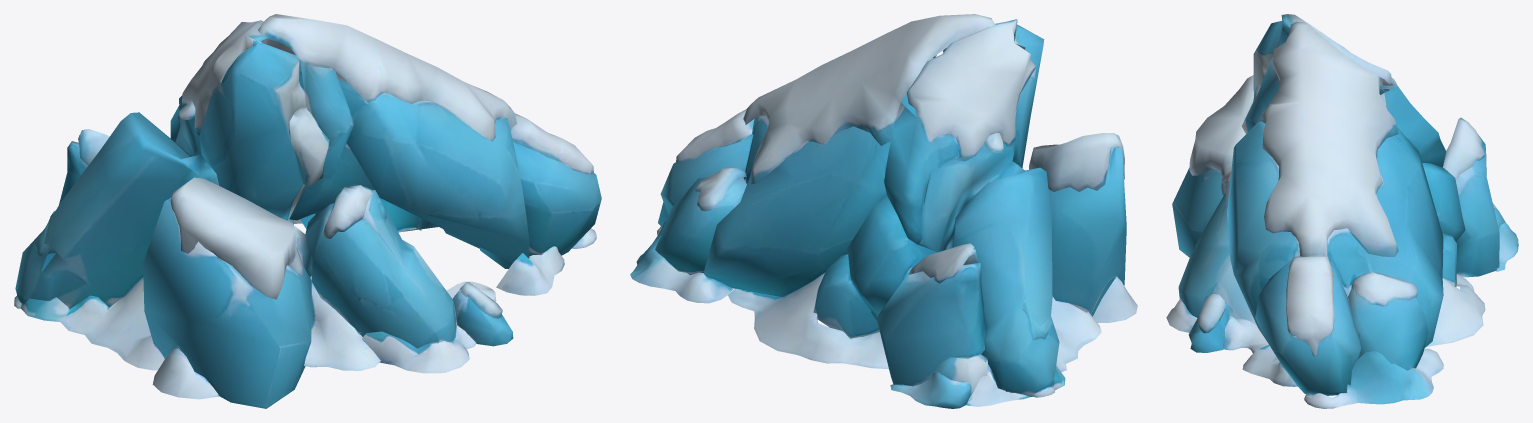
The model's file is SM_Tripo_FrostIcicleShards.glb.
3 renders of one model, left to right at view 1: azimuth 30°, elevation 25°; view 2: azimuth 150°, elevation 25°; view 3: azimuth 270°, elevation 25°, orthographic. The views are drawn at different scales.
Visible parts, largest first — view 1: SM_Tripo_FrostIcicleShards_LOD0; view 2: SM_Tripo_FrostIcicleShards_LOD0; view 3: SM_Tripo_FrostIcicleShards_LOD0.
Boxes of the visible parts, x1,y1,x2,y2 form: SM_Tripo_FrostIcicleShards_LOD0: [14, 14, 601, 408]; SM_Tripo_FrostIcicleShards_LOD0: [630, 14, 1137, 408]; SM_Tripo_FrostIcicleShards_LOD0: [1166, 14, 1518, 408].
Size of the model in its own units: 1.68 by 1 by 1.23.
Materials: 1 (1 with a texture image).
